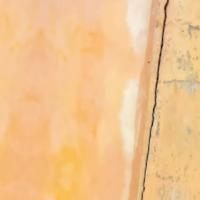crack: (139, 0, 188, 199)
